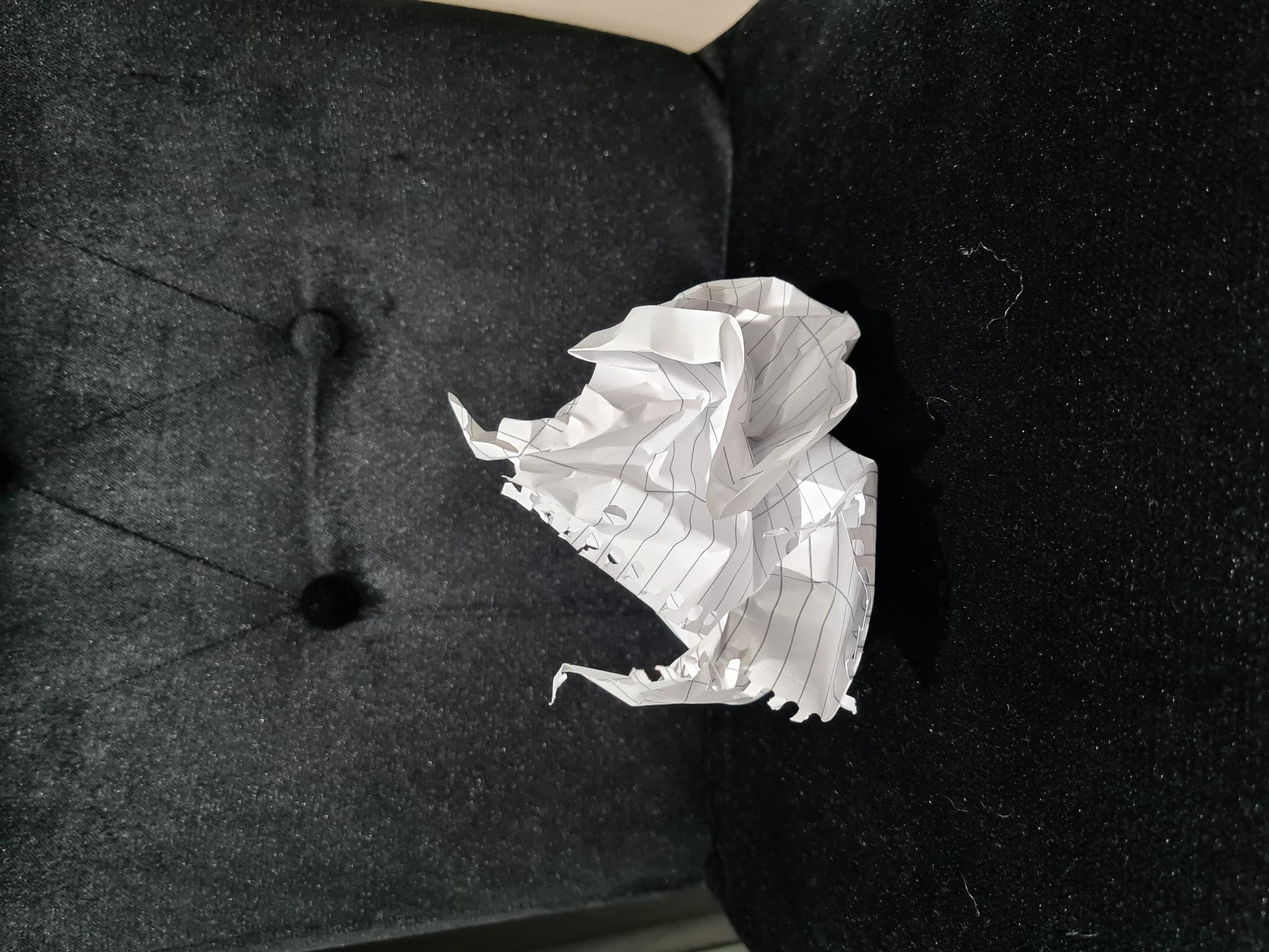Kertas: (231, 449, 675, 878)
